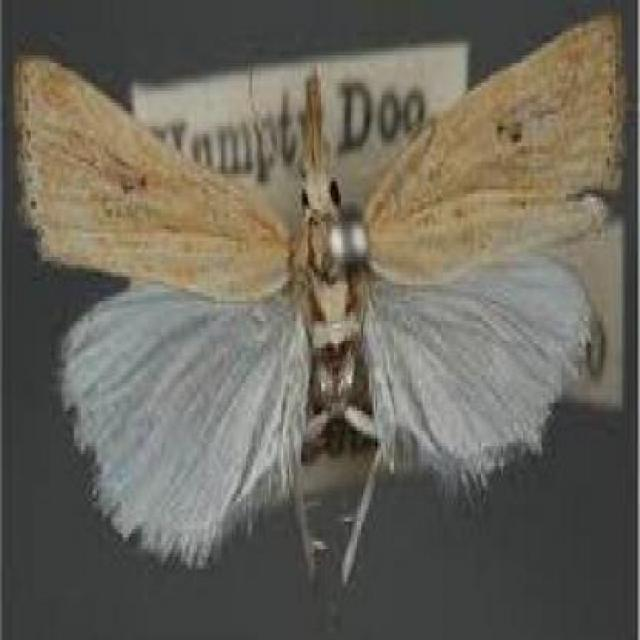stem-borer: (8, 0, 627, 589)
